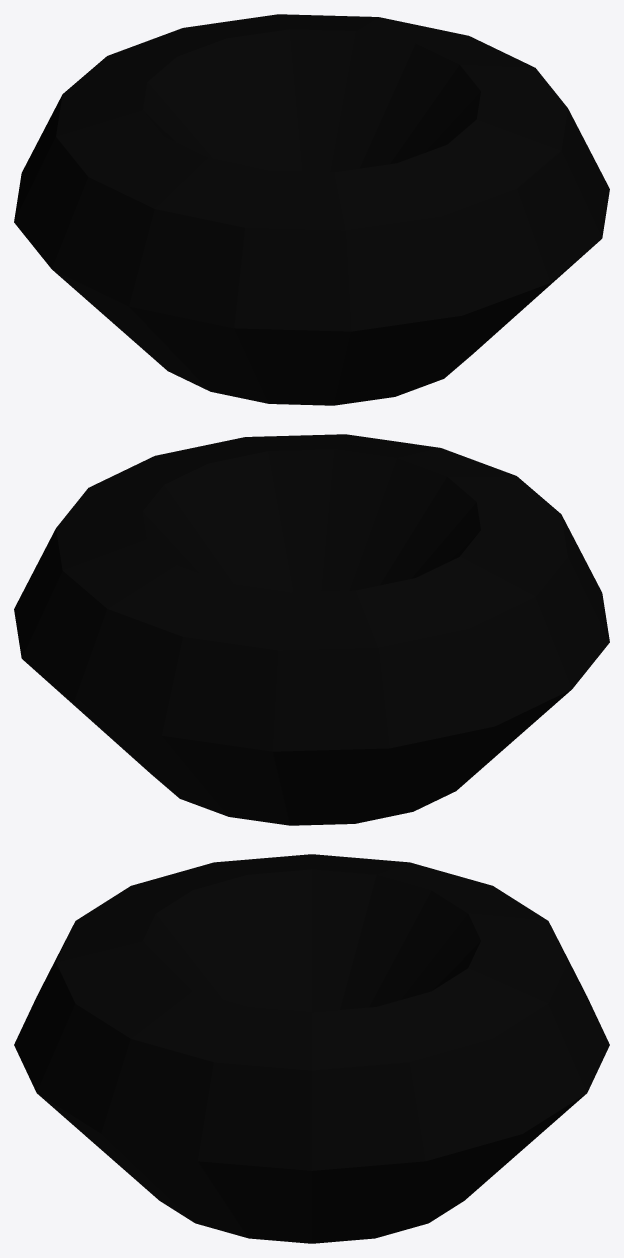
Rendered from Dead_Spider.fbx.
The picture shows the model from 3 angles, top to bottom: view 1: azimuth 30°, elevation 25°; view 2: azimuth 150°, elevation 25°; view 3: azimuth 270°, elevation 25°; orthographic projection.
Visible parts, largest first — view 1: Sphere; view 2: Sphere; view 3: Sphere.
Boxes of the visible parts, x1,y1,x2,y2 form: Sphere: [14, 14, 609, 405]; Sphere: [14, 434, 609, 825]; Sphere: [14, 854, 609, 1243].
Bounding box in the file's own units: 138 × 67.23 × 138.
1 material, 1 textured.
